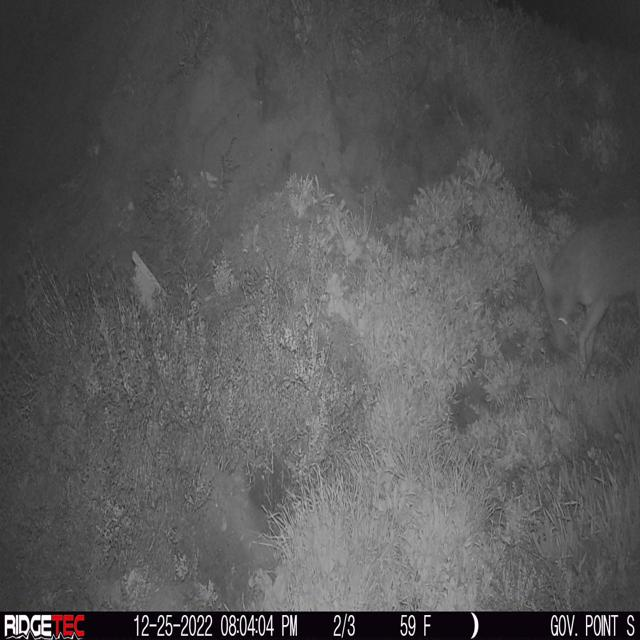coyote: (533, 209, 640, 380)
